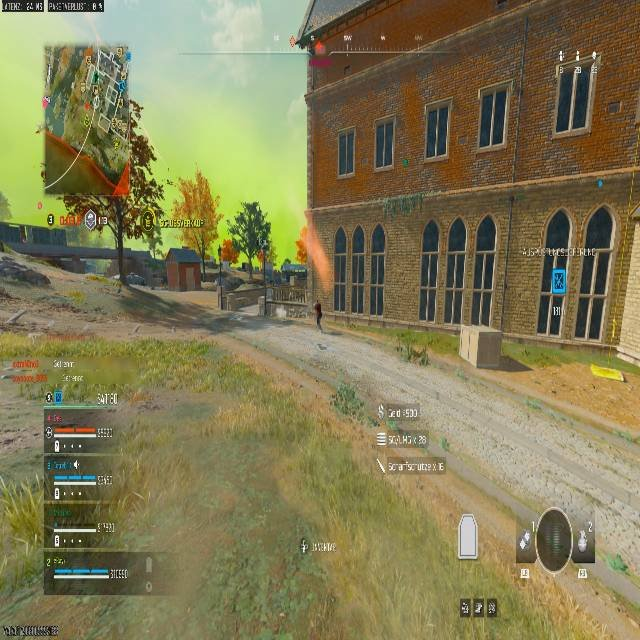player: (232, 200, 273, 272), (214, 268, 237, 312), (313, 300, 323, 331)
